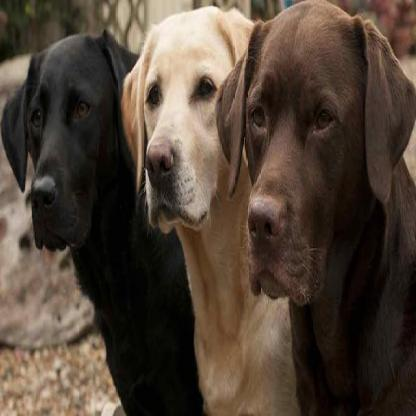Labarador Retriever: (221, 18, 416, 414), (3, 30, 203, 416), (122, 9, 298, 416)
